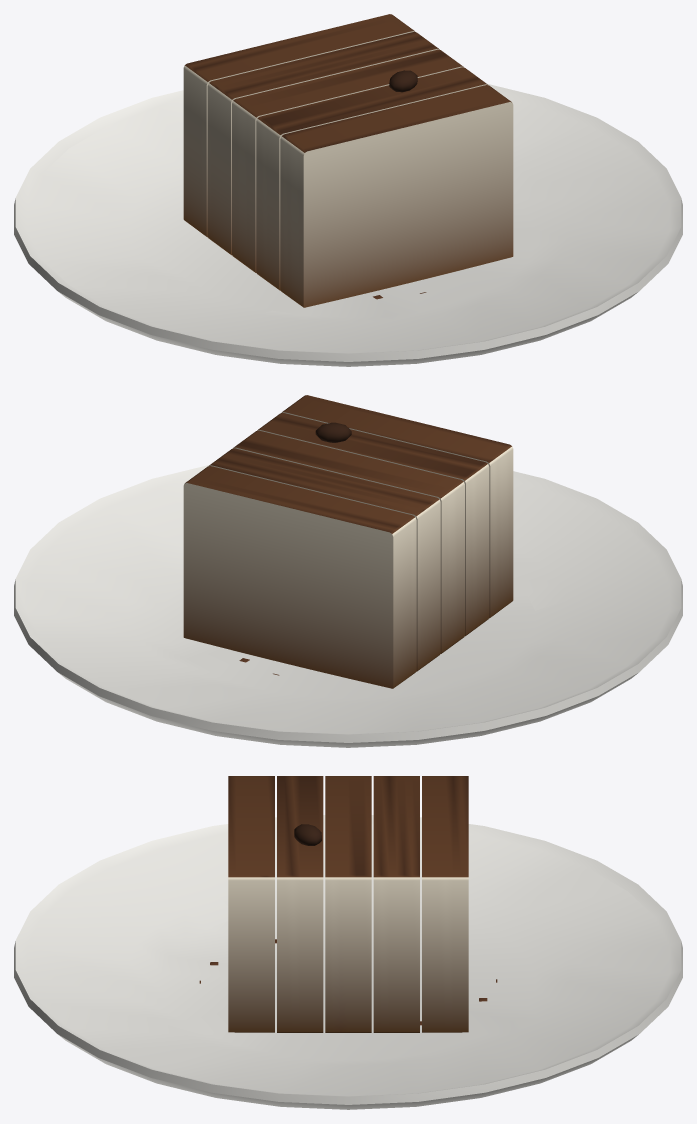
Rendered from dish-tiramisu-lod1.glb.
3 views of the same model, one above another, from view 1: azimuth 30°, elevation 25°; view 2: azimuth 150°, elevation 25°; view 3: azimuth 270°, elevation 25° (orthographic).
Parts seen in each view (by area): view 1: tiramisu.lod1__table porcelain, tiramisu.lod1__food; view 2: tiramisu.lod1__table porcelain, tiramisu.lod1__food, tiramisu.lod1__food glaze; view 3: tiramisu.lod1__table porcelain, tiramisu.lod1__food.
Part boxes in pixels (bbox=[...]): tiramisu.lod1__table porcelain: bbox=[14, 83, 682, 366]; tiramisu.lod1__food: bbox=[183, 14, 513, 307]; tiramisu.lod1__table porcelain: bbox=[14, 464, 682, 747]; tiramisu.lod1__food: bbox=[183, 395, 513, 688]; tiramisu.lod1__food glaze: bbox=[315, 422, 351, 442]; tiramisu.lod1__table porcelain: bbox=[14, 815, 682, 1109]; tiramisu.lod1__food: bbox=[199, 776, 497, 1032].
Size of the model in its own units: 0.2 by 0.0673 by 0.1989.
